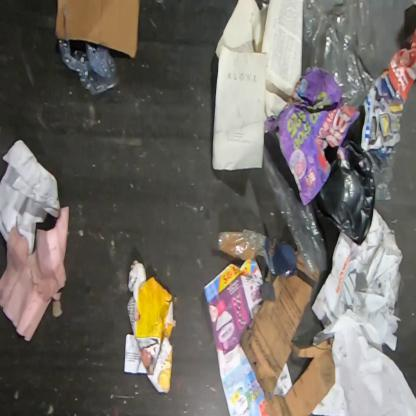cardboard: (240, 274, 335, 415), (124, 260, 177, 392), (55, 0, 140, 58), (216, 229, 305, 284)
rigid_plastic: (316, 141, 376, 246), (58, 39, 121, 95)
soft_plastic: (262, 130, 341, 280), (302, 0, 378, 108), (368, 152, 396, 200)
